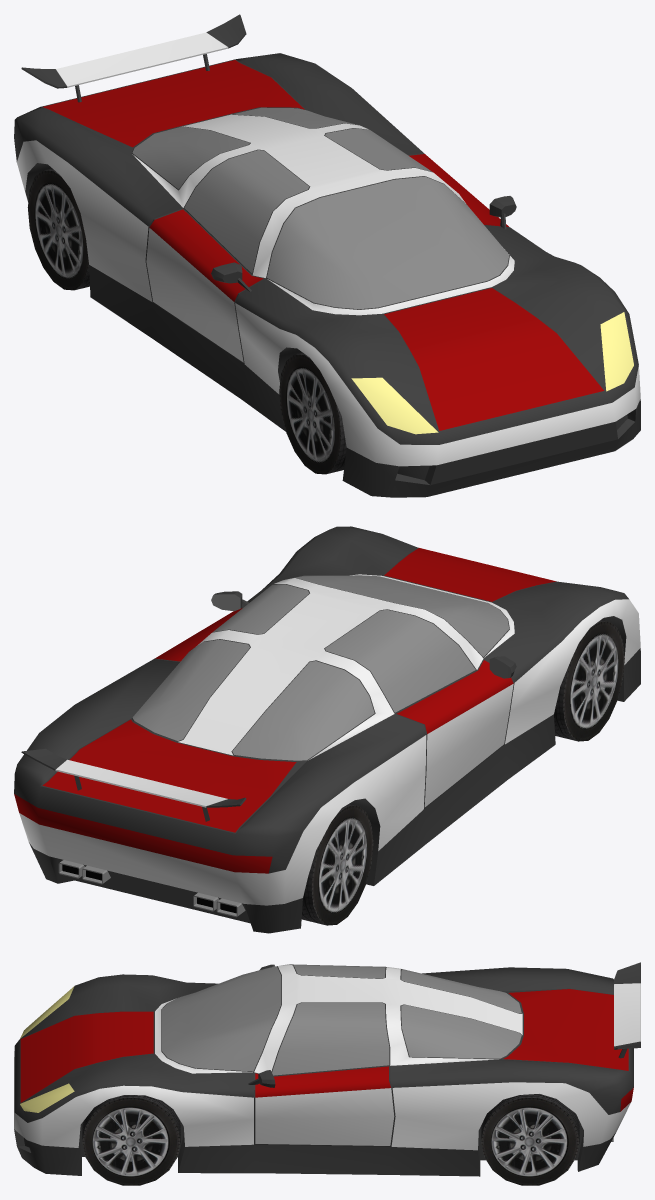
Rendered from car_5.FBX.
3 renders of one model, top to bottom at view 1: azimuth 30°, elevation 25°; view 2: azimuth 150°, elevation 25°; view 3: azimuth 270°, elevation 25°, orthographic. The views are drawn at different scales.
Parts seen in each view (by area): view 1: Object016, Cylinder075, Cylinder073; view 2: Object016, Cylinder073, Cylinder075; view 3: Object016, Cylinder076, Cylinder061.
Part boxes in pixels (box(x1,y1,x2,y2)): Object016: box(14, 14, 640, 497); Cylinder075: box(279, 352, 346, 474); Cylinder073: box(27, 168, 89, 290); Object016: box(14, 526, 640, 933); Cylinder073: box(301, 803, 373, 925); Cylinder075: box(554, 619, 624, 741); Object016: box(14, 962, 640, 1176); Cylinder076: box(481, 1094, 579, 1185); Cylinder061: box(82, 1095, 180, 1185).
Bounding box in the file's own units: 2.14 × 1.22 × 4.88.
